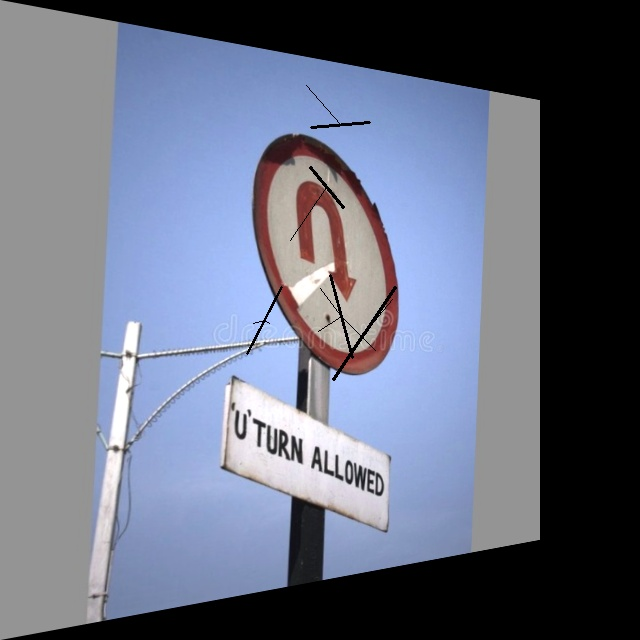U_Turn_Ahead: (247, 112, 420, 383)
